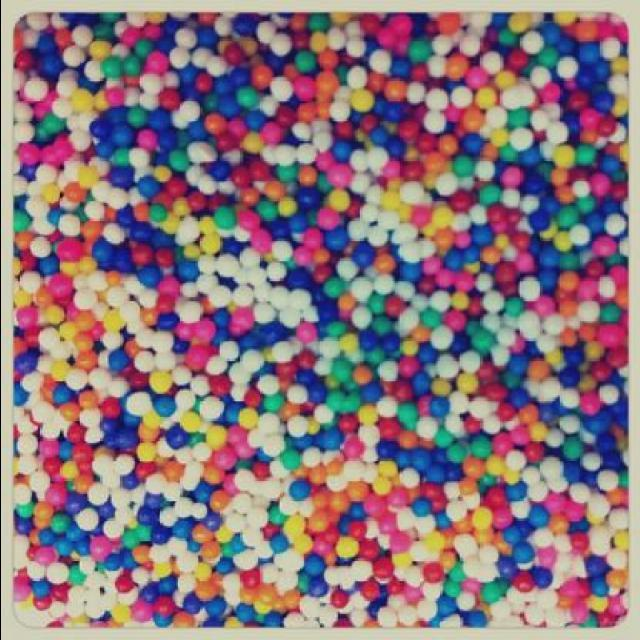Candy: (43, 30, 599, 582)
